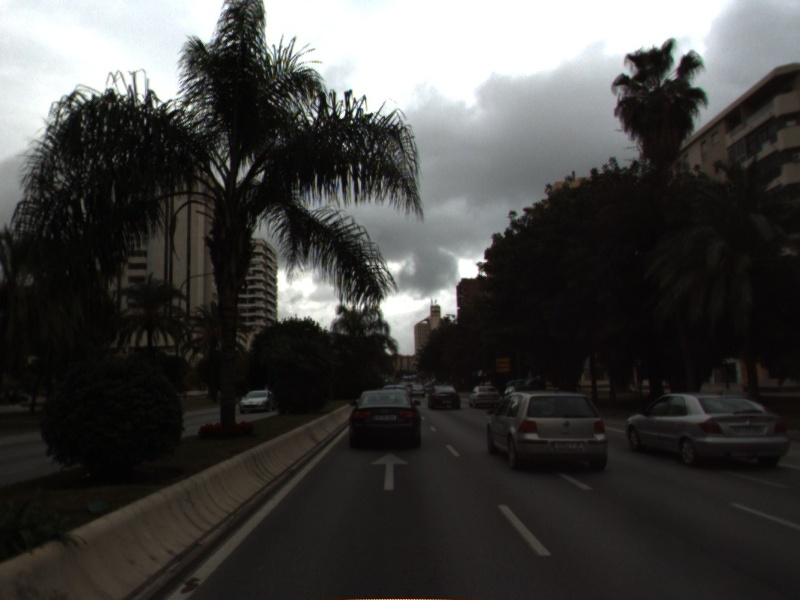STRAIGHT: (368, 450, 412, 492)
